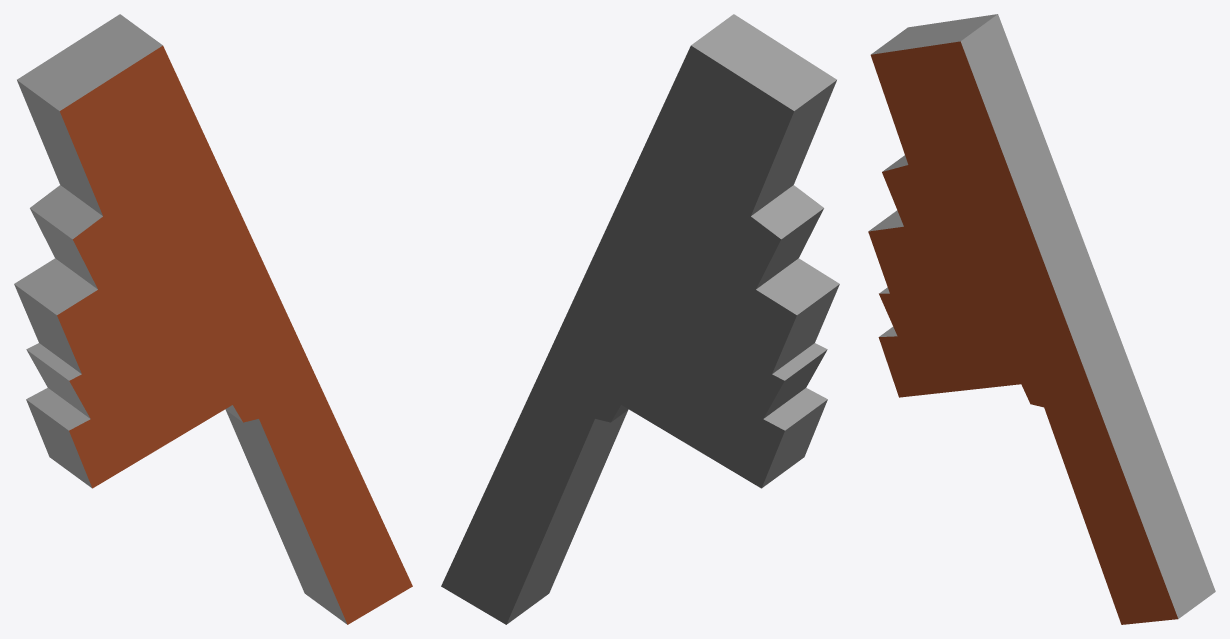
The model's file is construction_2247_assumed_A_Casa_h6m.obj.
3 views of the same model, side by side, from view 1: azimuth 30°, elevation 25°; view 2: azimuth 150°, elevation 25°; view 3: azimuth 330°, elevation 25° (orthographic). The views are drawn at different scales.
Visible parts, largest first — view 1: construction_2247_assumed_A_Casa; view 2: construction_2247_assumed_A_Casa; view 3: construction_2247_assumed_A_Casa.
Part boxes in pixels (x1,y1,x2,y2): construction_2247_assumed_A_Casa: (14,14,412,624); construction_2247_assumed_A_Casa: (441,14,839,624); construction_2247_assumed_A_Casa: (868,14,1215,624).
Size of the model in its own units: 28.71 by 48.12 by 6.
